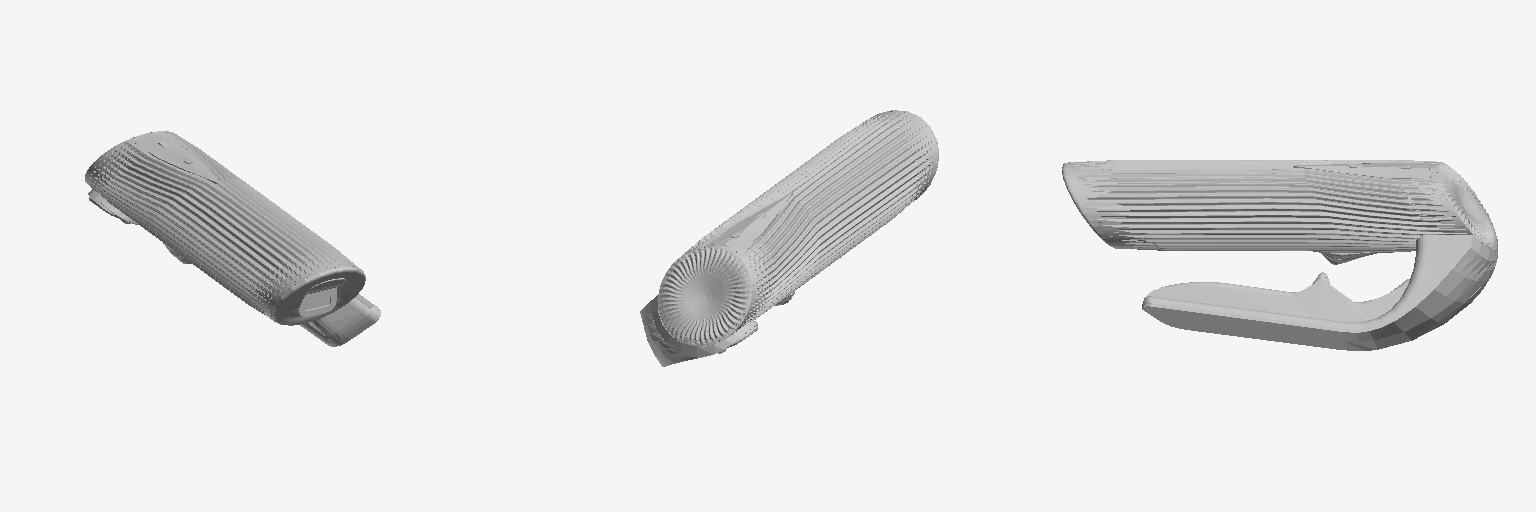
The model's file is etee_controller_right.obj.
3 views of the same model, side by side, from view 1: azimuth 30°, elevation 25°; view 2: azimuth 150°, elevation 25°; view 3: azimuth 270°, elevation 25° (orthographic).
Visible parts, largest first — view 1: 2020.07.21_Sleeve.001_Sleeve.002; view 2: 2020.07.21_Sleeve.001_Sleeve.002; view 3: 2020.07.21_Sleeve.001_Sleeve.002.
Part boxes in pixels (x1,y1,x2,y2): 2020.07.21_Sleeve.001_Sleeve.002: (85,131,381,346); 2020.07.21_Sleeve.001_Sleeve.002: (640,110,938,366); 2020.07.21_Sleeve.001_Sleeve.002: (1062,160,1497,350).
Bounding box in the file's own units: 0.0535 × 0.0503 × 0.131.